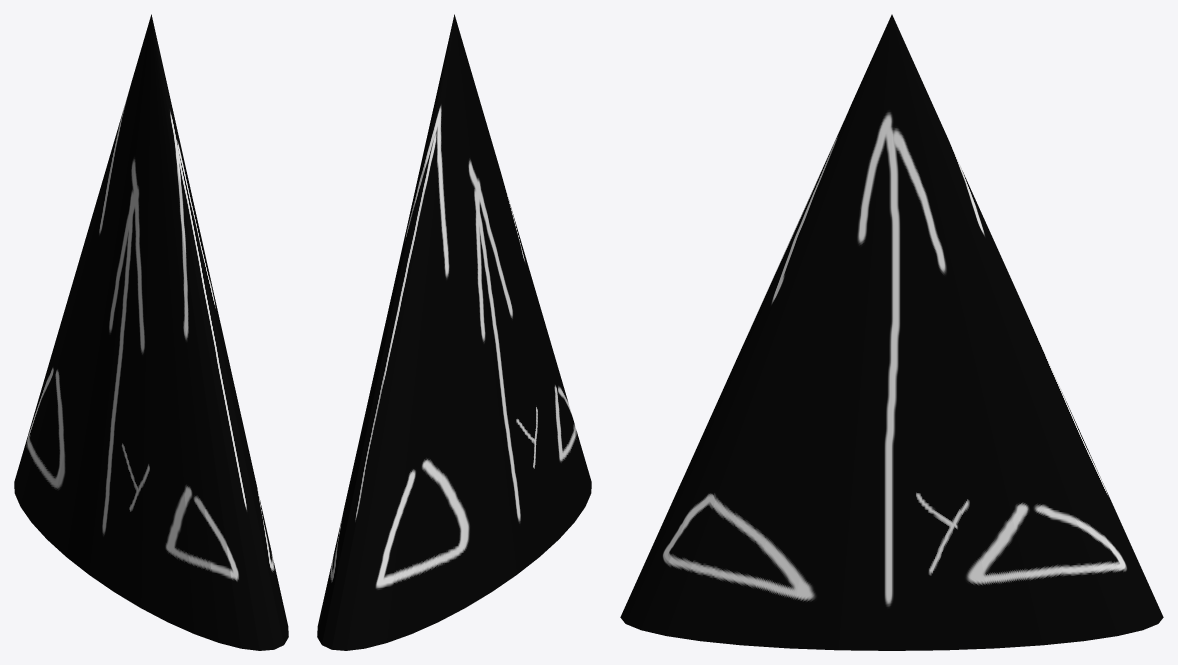
The picture shows the model from 3 angles, left to right: view 1: azimuth 30°, elevation 25°; view 2: azimuth 150°, elevation 25°; view 3: azimuth 270°, elevation 25°; orthographic projection. The views are drawn at different scales.
Parts seen in each view (by area): view 1: Cone; view 2: Cone; view 3: Cone.
Boxes of the visible parts, x1,y1,x2,y2 form: Cone: (14, 14, 288, 650); Cone: (317, 14, 591, 650); Cone: (620, 14, 1163, 650).
Bounding box in the file's own units: 490 × 2050 × 1673.
Materials: 1 (1 with a texture image).
